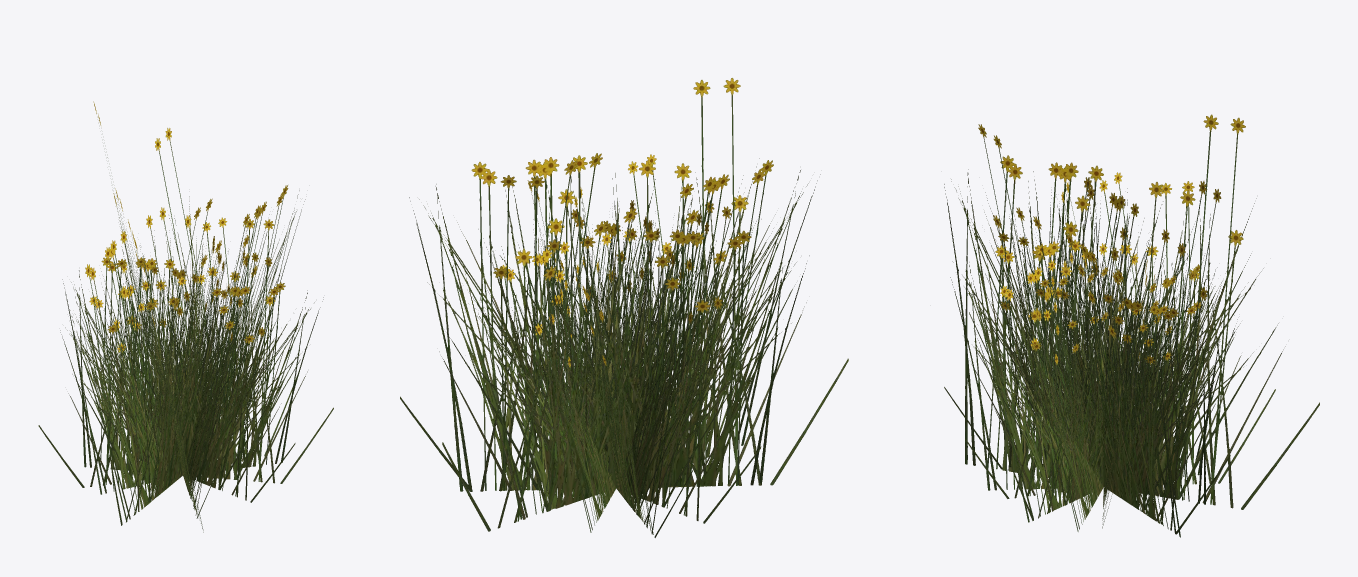
Rendered from daisy-clump.glb.
The picture shows the model from 3 angles, left to right: view 1: azimuth 30°, elevation 25°; view 2: azimuth 150°, elevation 25°; view 3: azimuth 270°, elevation 25°; orthographic projection. The views are drawn at different scales.
Visible parts, largest first — view 1: daisy_clump_grass; view 2: daisy_clump_grass; view 3: daisy_clump_grass.
Part boxes in pixels (x1,y1,x2,y2): daisy_clump_grass: [38, 101, 333, 532]; daisy_clump_grass: [400, 78, 848, 537]; daisy_clump_grass: [944, 114, 1319, 537].
Bounding box in the file's own units: 0.7339 × 0.75 × 0.7533.
1 material, 1 textured.
